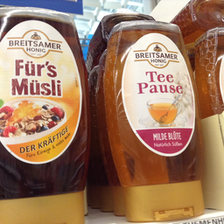honey: (103, 20, 214, 222), (1, 7, 89, 223)
